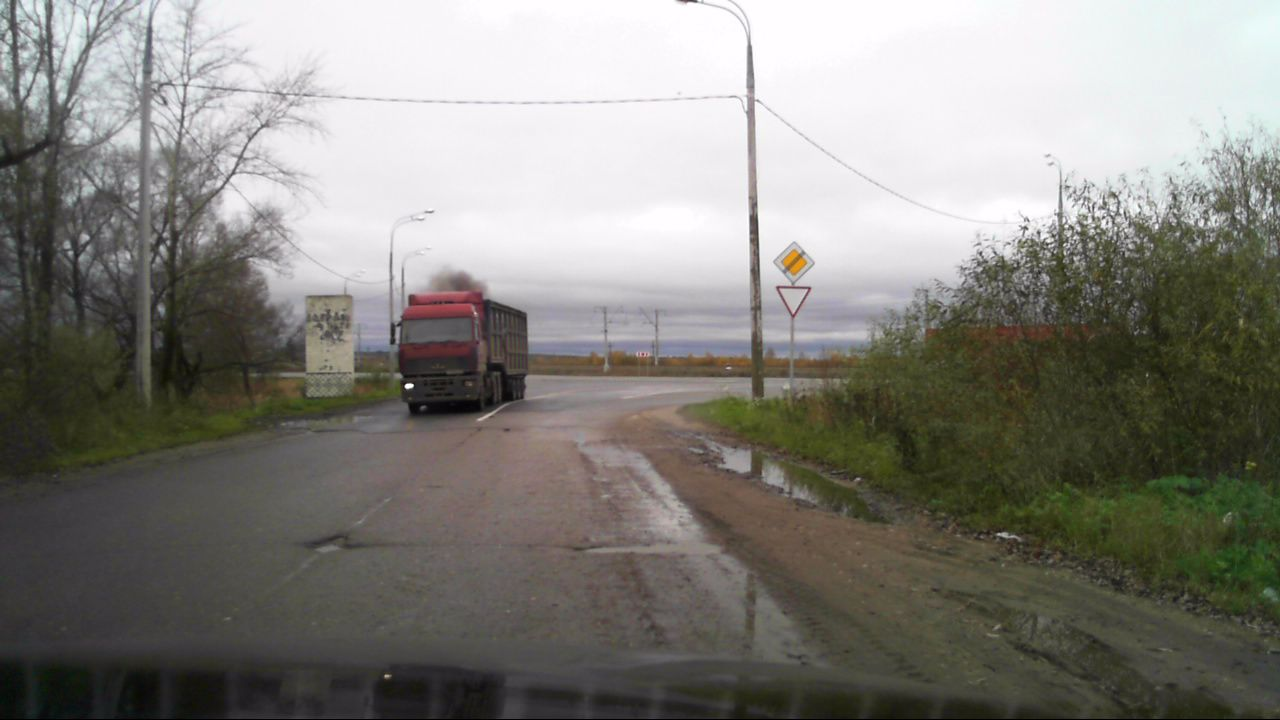main road: (773, 239, 816, 284)
